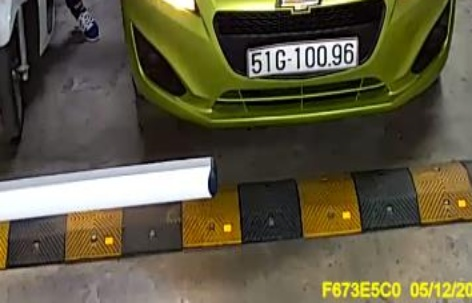plate: (242, 36, 362, 80)
